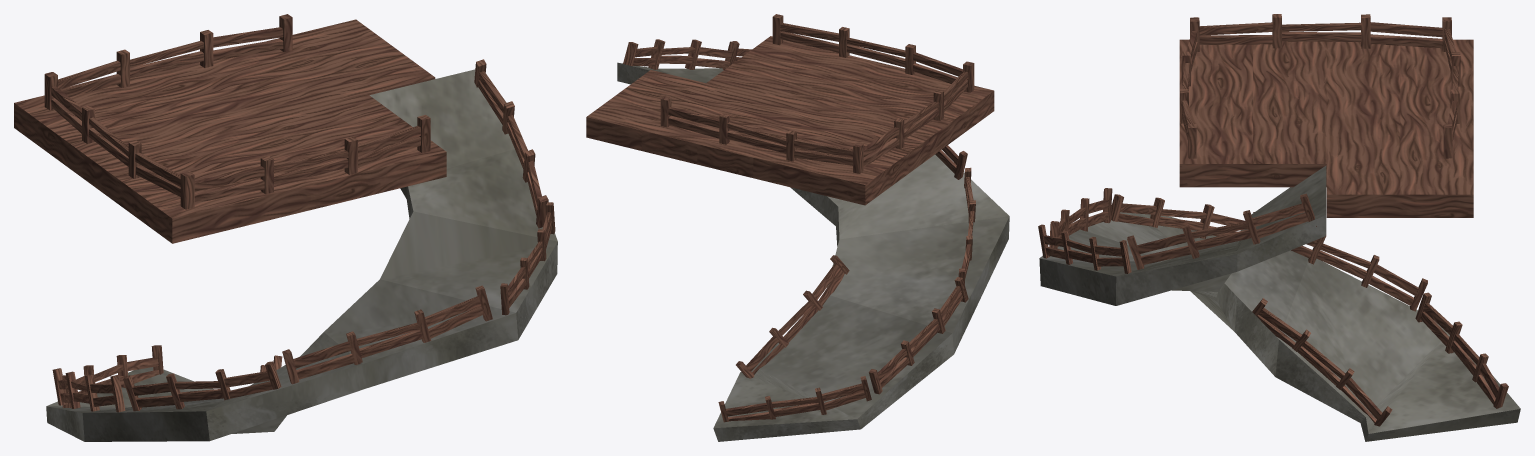
The model's file is Terrasse.fbx.
3 views of the same model, side by side, from view 1: azimuth 30°, elevation 25°; view 2: azimuth 150°, elevation 25°; view 3: azimuth 270°, elevation 25° (orthographic). The views are drawn at different scales.
Parts seen in each view (by area): view 1: Cube.019; view 2: Cube.019; view 3: Cube.019.
Part boxes in pixels (<box>): Cube.019: <box>14,14,557,441</box>; Cube.019: <box>586,14,1009,441</box>; Cube.019: <box>1038,14,1520,441</box>.
Size of the model in its own units: 2222 by 1946 by 2484.
